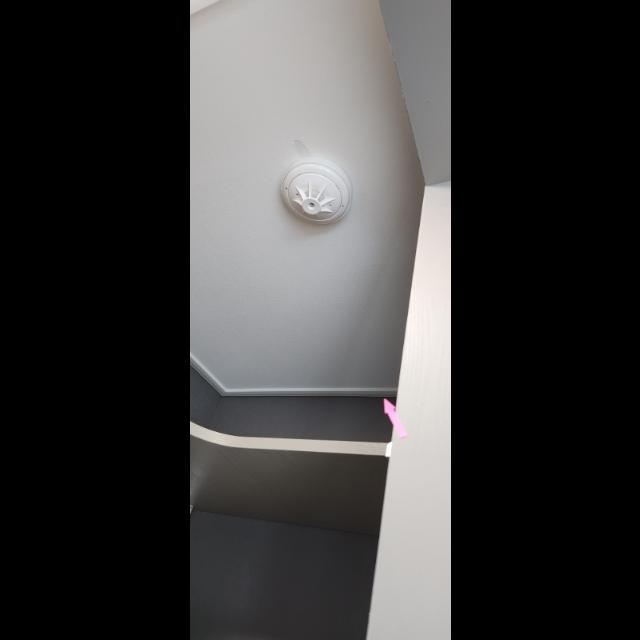Smoke-Detector: (281, 159, 353, 225)
